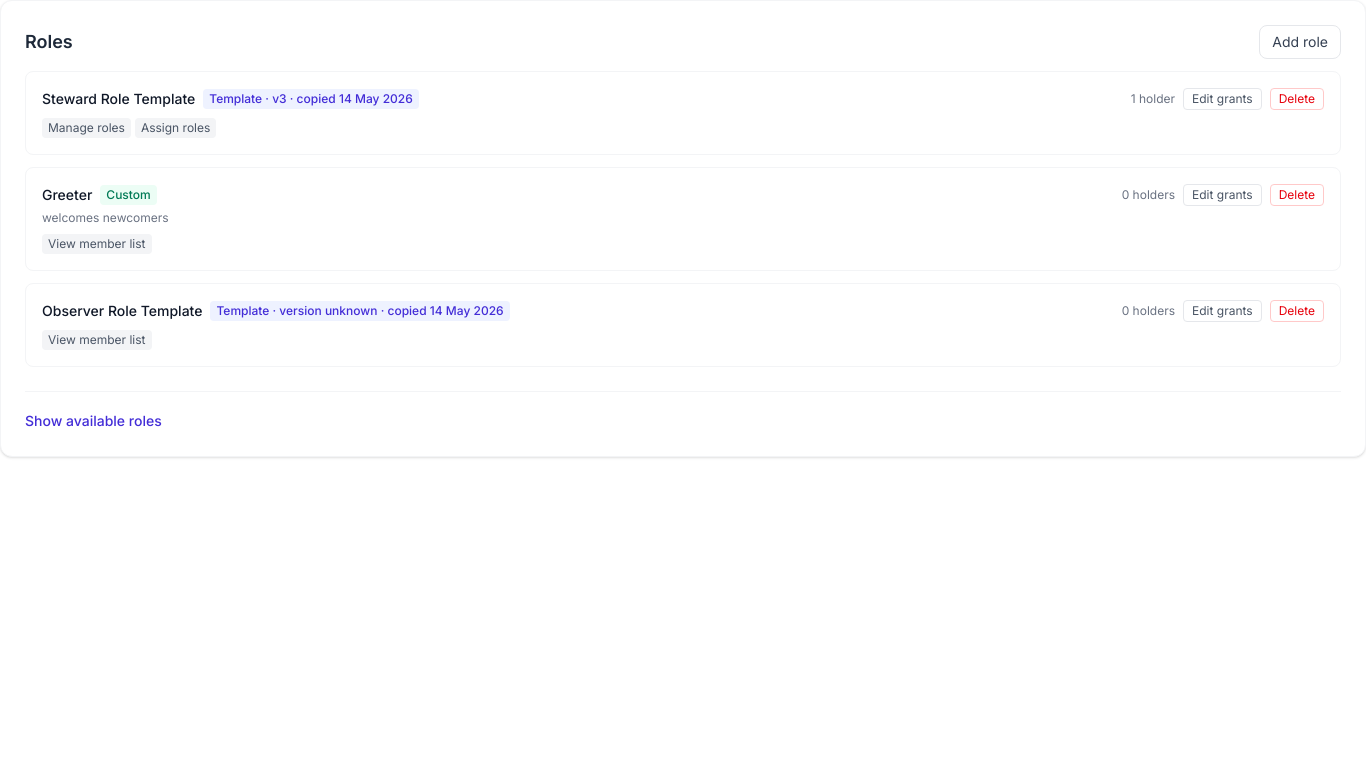
Test: FEAT-H014 — RolesPanel (STORY-1/2) › surfaces the held-role refusal in place — nothing deleted, nothing re-read
The width and height of the screenshot is (1366, 768).
Click the button with test id "delete-role-button" in the row of "Custom".
click(1297, 195)  # box [1270,184,1324,206]
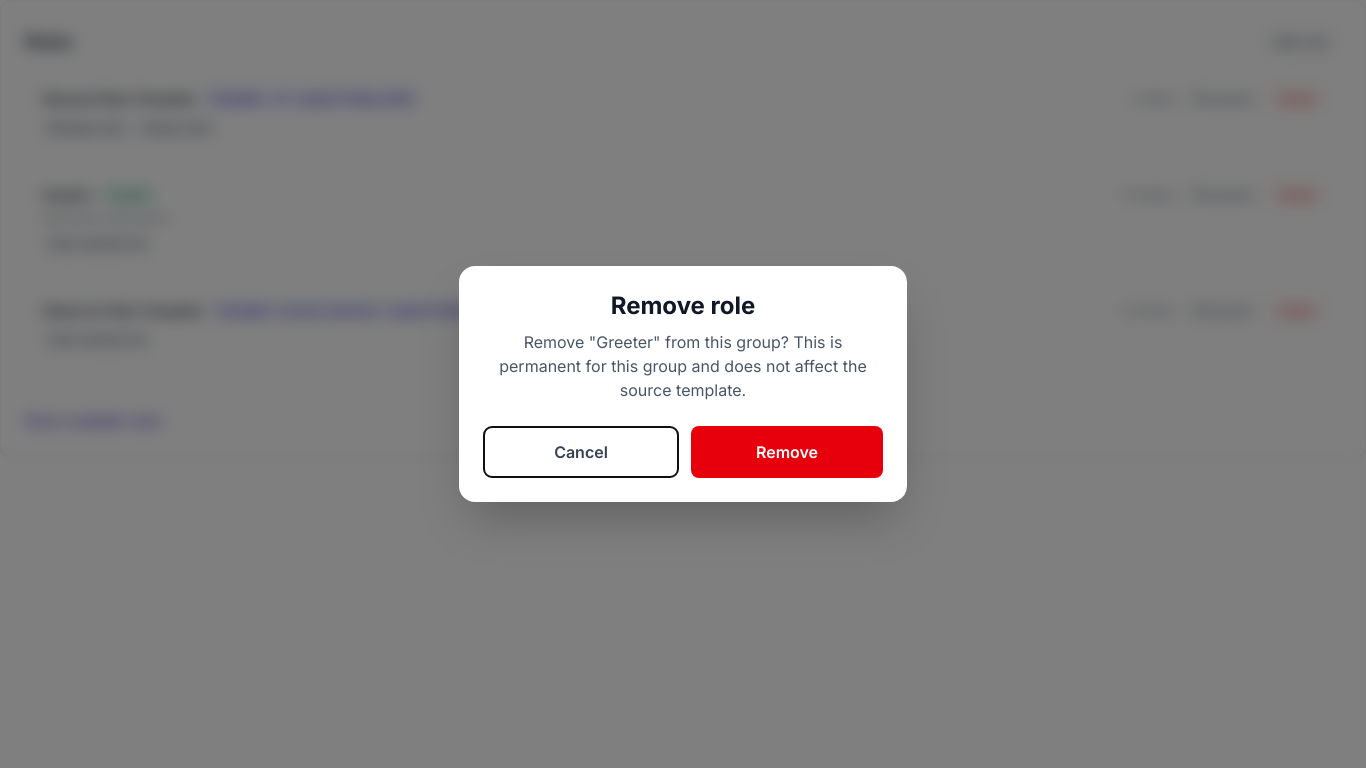
Click the button with test id "confirm-modal-confirm".
click(787, 452)  # box [691,426,883,478]
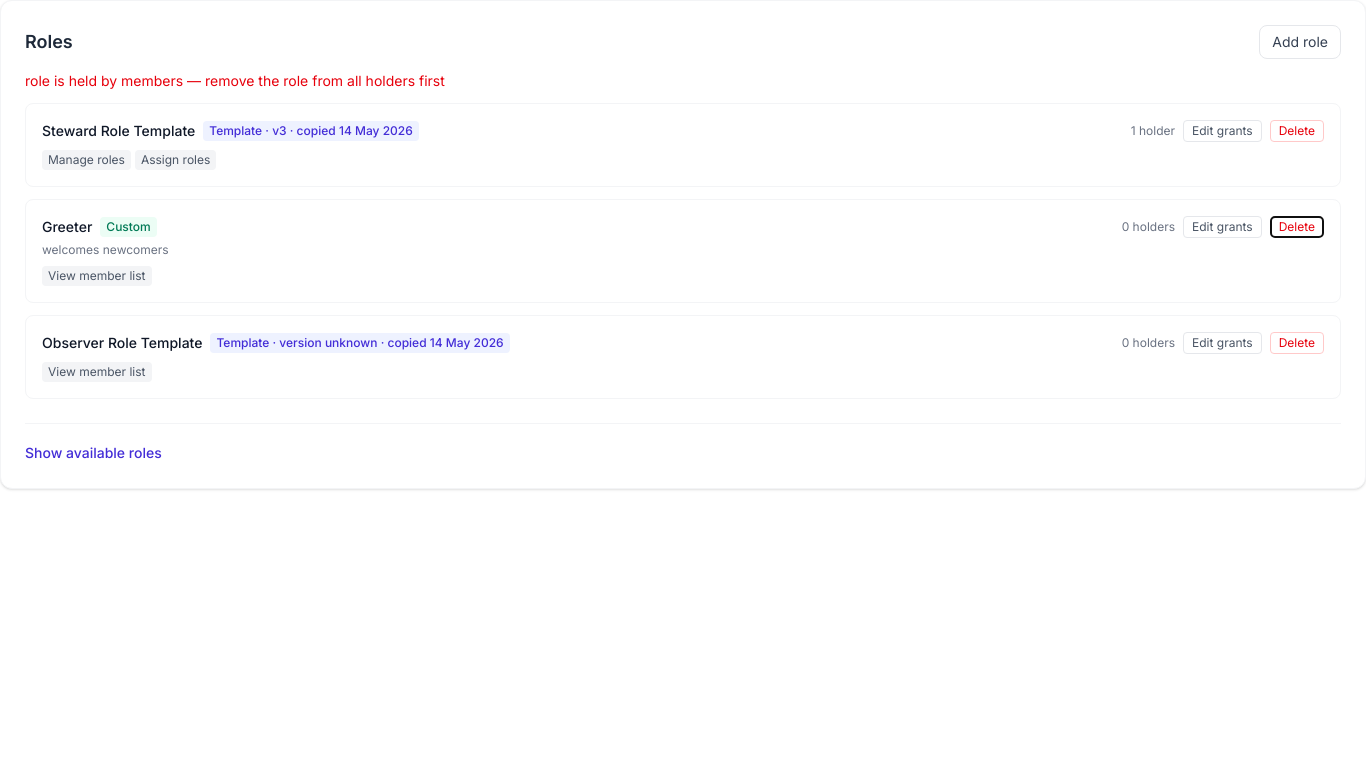
Expected: the text "Greeter" is shown, [42,217,92,237]
Expected: the message shows "remove the role from all holders first", [25,72,445,89]
